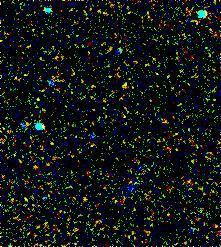star: (108, 67, 138, 97)
